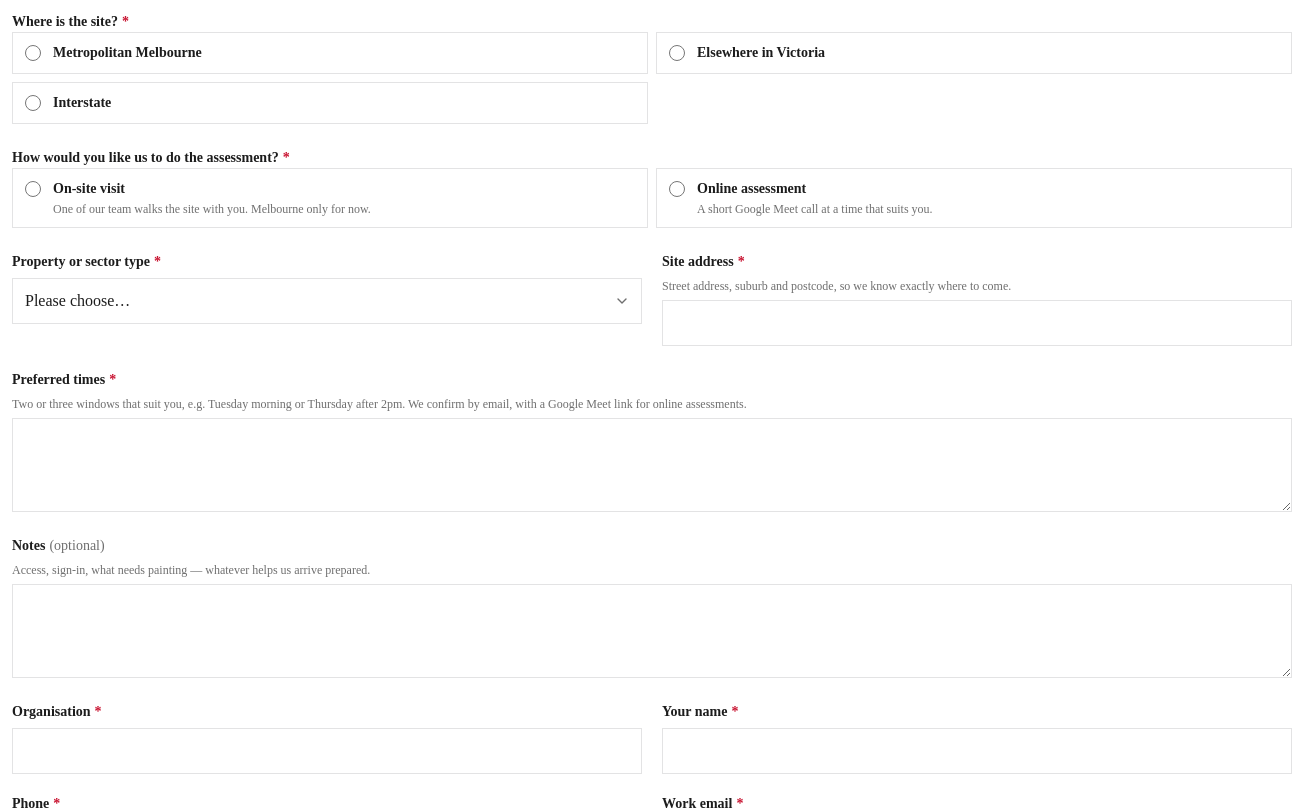
it: the on-site option follows the site region › moves a visitor who had picked on-site over to online when they change region
The width and height of the screenshot is (1304, 812).
What coordinates should you click on to do the following:
click the radio button labelled "Metropolitan Melbourne"
I would click on:
 (33, 53)
Its box is [25,45,41,61].
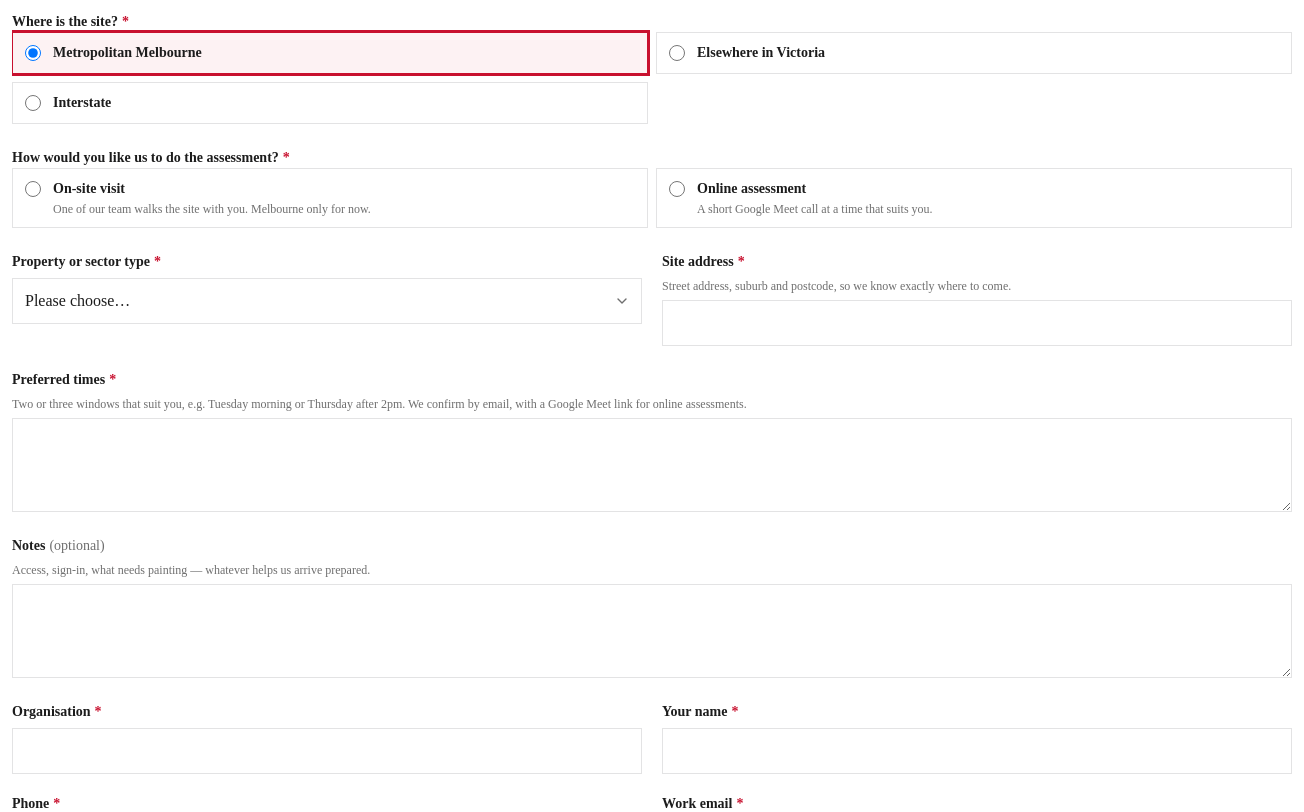
What coordinates should you click on to do the following:
click the radio button labelled "On-site visit"
I would click on:
 (33, 189)
Its box is [25,181,41,197].
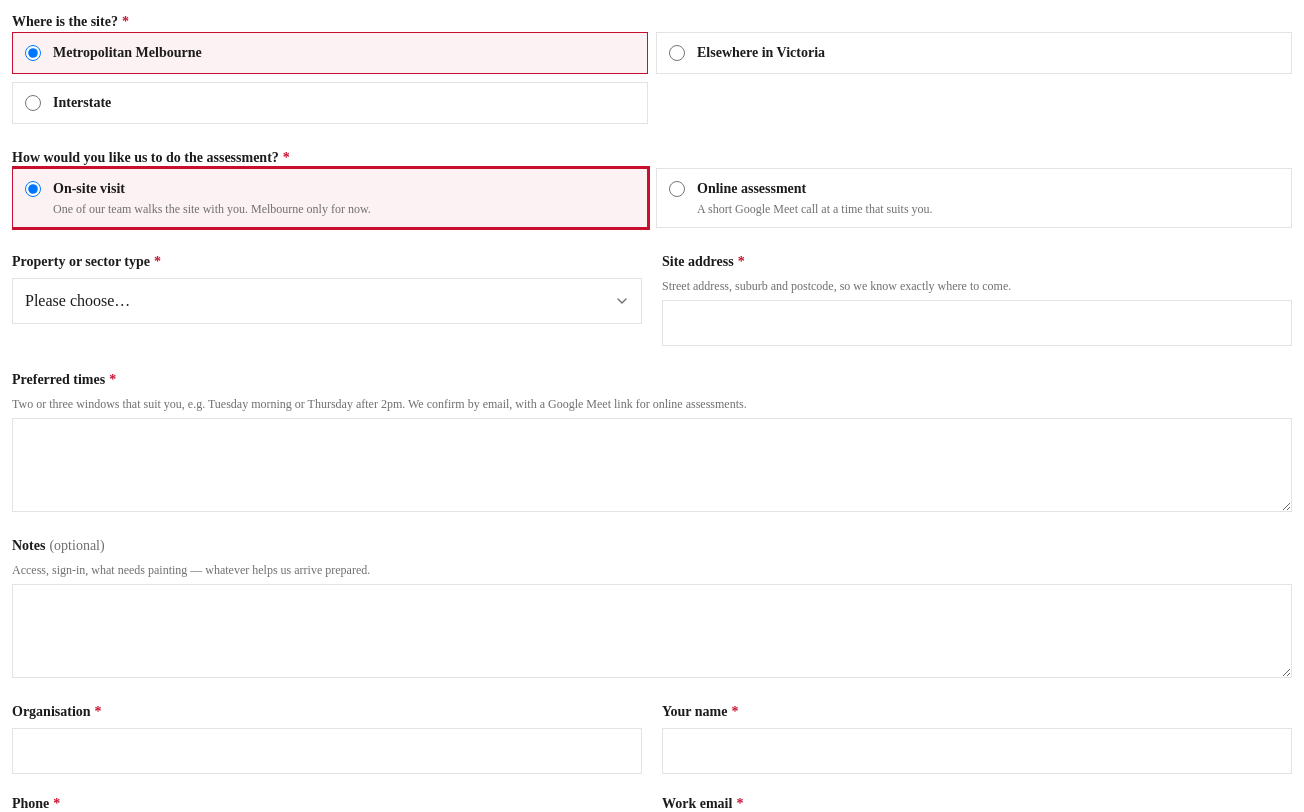
What coordinates should you click on to do the following:
click the radio button labelled "Interstate"
I would click on:
 (33, 103)
Its box is [25,95,41,111].
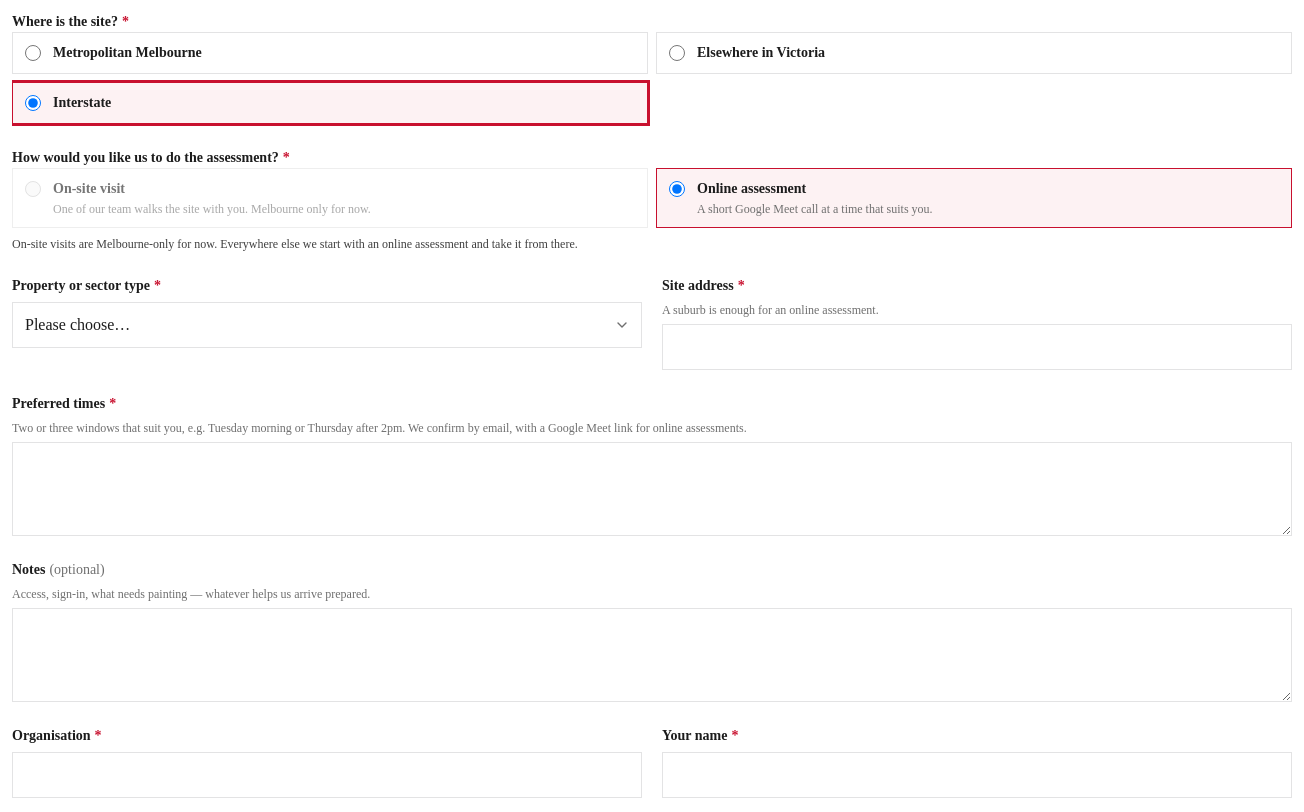
Expected: the radio button labelled "On-site visit" is not checked, [25,181,41,197]
Expected: the radio button labelled "Online assessment" is checked, [669,181,685,197]
